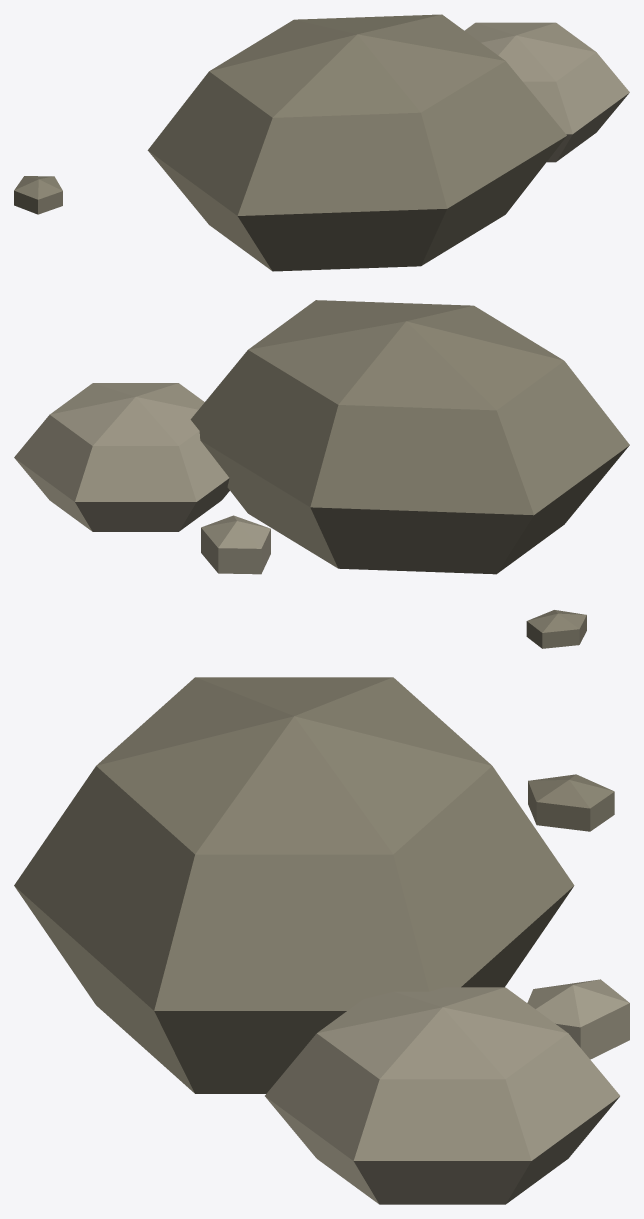
File: cover_stones_b.glb
3 renders of one model, top to bottom at view 1: azimuth 30°, elevation 25°; view 2: azimuth 150°, elevation 25°; view 3: azimuth 270°, elevation 25°, orthographic. The views are drawn at different scales.
Parts seen in each view (by area): view 1: cover_stones_b; view 2: cover_stones_b; view 3: cover_stones_b.
Boxes of the visible parts, x1,y1,x2,y2 form: cover_stones_b: (14, 14, 629, 271); cover_stones_b: (14, 300, 629, 648); cover_stones_b: (14, 677, 629, 1204).
Bounding box in the file's own units: 1.32 × 0.504 × 0.8308.
